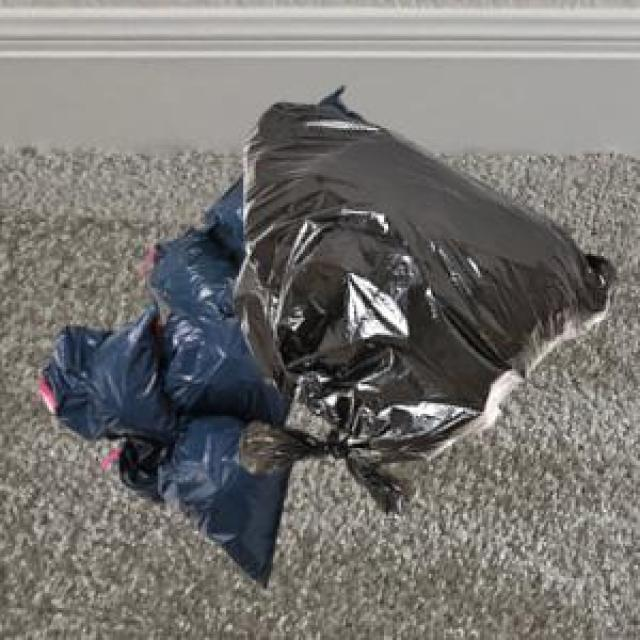Trashbag: (238, 92, 614, 488), (154, 409, 294, 587), (40, 294, 172, 458), (164, 307, 282, 424), (147, 228, 242, 318)
